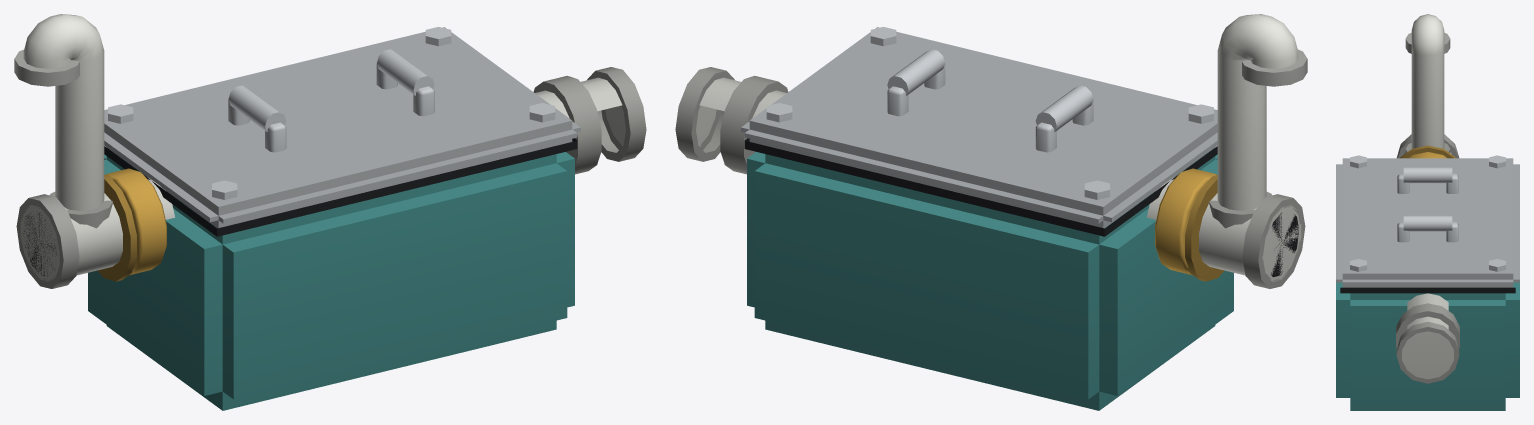
File: SM_GreaseInterceptor_01.glb
The picture shows the model from 3 angles, left to right: view 1: azimuth 30°, elevation 25°; view 2: azimuth 150°, elevation 25°; view 3: azimuth 270°, elevation 25°; orthographic projection. The views are drawn at different scales.
Visible parts, largest first — view 1: SM_GreaseInterceptor_01; view 2: SM_GreaseInterceptor_01; view 3: SM_GreaseInterceptor_01.
Part boxes in pixels (box(x1,y1,x2,y2)): SM_GreaseInterceptor_01: box(14, 14, 646, 410); SM_GreaseInterceptor_01: box(675, 14, 1307, 410); SM_GreaseInterceptor_01: box(1336, 14, 1519, 410).
Size of the model in its own units: 1.14 by 0.6796 by 0.45.
1 material, 1 textured.
